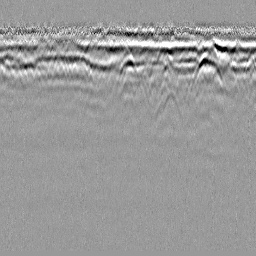cavity: (116, 52, 139, 84)
